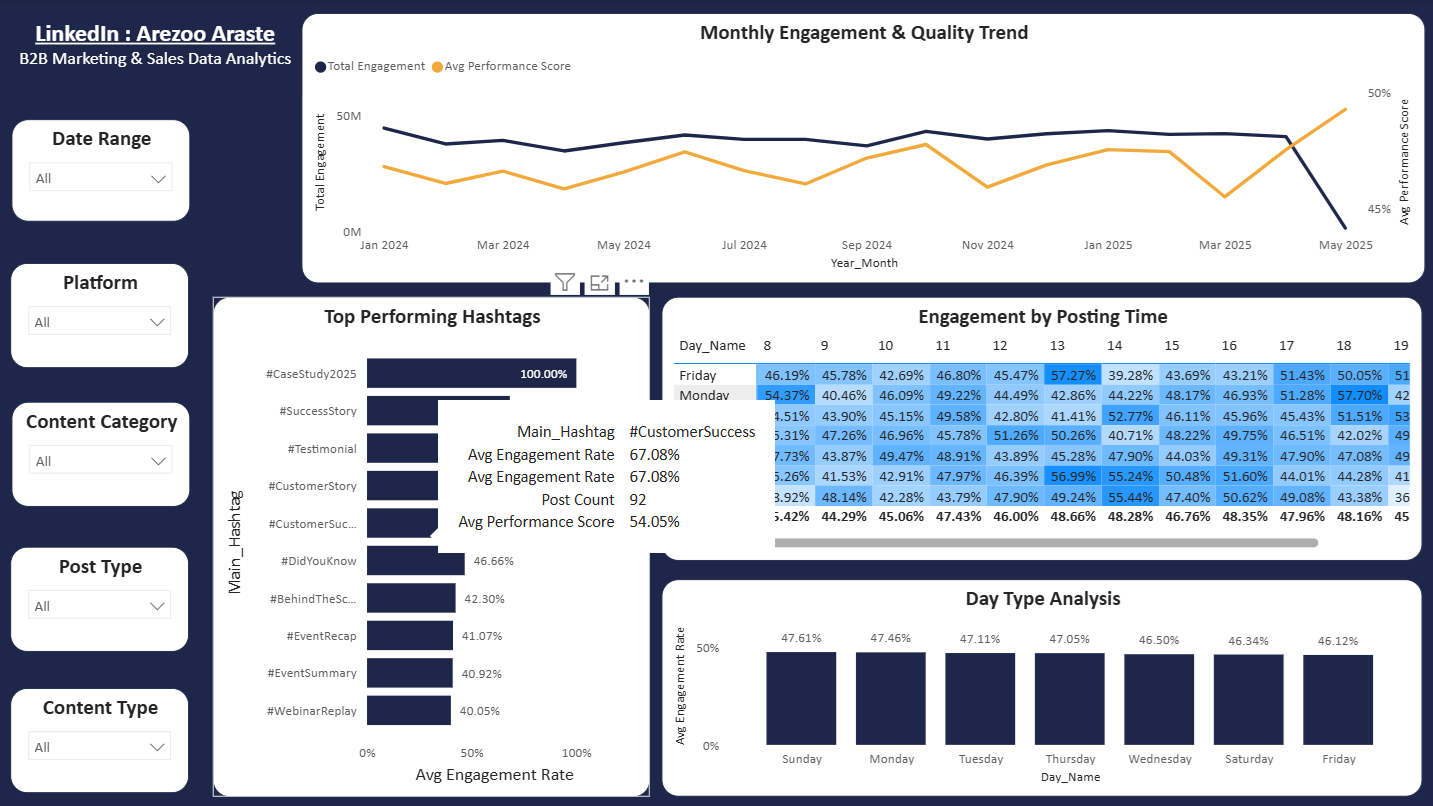

Layout of this report page (visuals, bound fields, positions):
{"tool":"powerbi","page":{"name":"Temporal & Hashtag Performance Analysis","canvas":[1280,720],"ordinal":2},"visuals":[{"type":"lineChart","title":"Monthly Engagement & Quality Trend","fields":{"Category":["Dim_Date.Year_Month"],"Y":["_Measures.Total Engagement"],"Y2":["_Measures.Avg Performance Score"]},"box":[269.4,13.4,1000.7,240.4],"z":0},{"type":"pivotTable","title":"Engagement by Posting Time","fields":{"Rows":["Dim_Date.Day_Name"],"Values":["_Measures.Avg Engagement Rate"],"Columns":["Fact_Post_Performance.Post_Hour"]},"box":[590,266,677.9,234.9],"z":1000},{"type":"clusteredColumnChart","title":"Day Type Analysis","fields":{"Category":["Dim_Date.Day_Name"],"Y":["_Measures.Avg Engagement Rate"]},"box":[590,517.6,677.9,193.7],"z":2000},{"type":"barChart","title":"Top Performing Hashtags","fields":{"Category":["Dim_Hashtag.Main_Hashtag"],"Y":["_Measures.Avg Engagement Rate"]},"box":[190.4,266,389.6,445.3],"z":3000},{"type":"slicer","title":"Content Type","fields":{"Values":["Dim_Content.Content_Type"]},"box":[10,614.5,159.2,93.5],"z":4000},{"type":"slicer","title":"Post Type","fields":{"Values":["Dim_Content.Post_Type"]},"box":[10,488.7,159.2,93.5],"z":5000},{"type":"slicer","title":"Content Category","fields":{"Values":["Dim_Content.Content_Category"]},"box":[11.1,359.6,159.2,93.5],"z":6000},{"type":"slicer","title":"Platform","fields":{"Values":["Dim_Date.Date"]},"box":[10,236,159.2,93.5],"z":7000},{"type":"slicer","title":"Date Range","fields":{"Values":["Dim_Date.Date"]},"box":[11.1,108,159.2,91.3],"z":8000},{"type":"textbox","box":[8.9,13.4,260.5,71.2],"z":9000}]}

Visuals, with their boxes in screenshot pixels (x1, y1, x2, y2), scaled from the page's 1280x720 canvas onto the 1433x806 screenshot:
"Monthly Engagement & Quality Trend" lineChart: rect(302, 15, 1422, 284)
"Engagement by Posting Time" pivotTable: rect(661, 298, 1419, 561)
"Day Type Analysis" clusteredColumnChart: rect(661, 579, 1419, 796)
"Top Performing Hashtags" barChart: rect(213, 298, 649, 796)
"Content Type" slicer: rect(11, 688, 189, 793)
"Post Type" slicer: rect(11, 547, 189, 652)
"Content Category" slicer: rect(12, 403, 191, 507)
"Platform" slicer: rect(11, 264, 189, 369)
"Date Range" slicer: rect(12, 121, 191, 223)
textbox: rect(10, 15, 302, 95)
